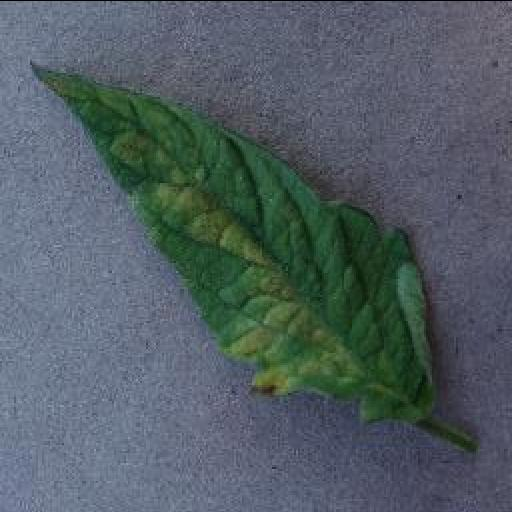disease_tomato: (26, 56, 442, 422)
